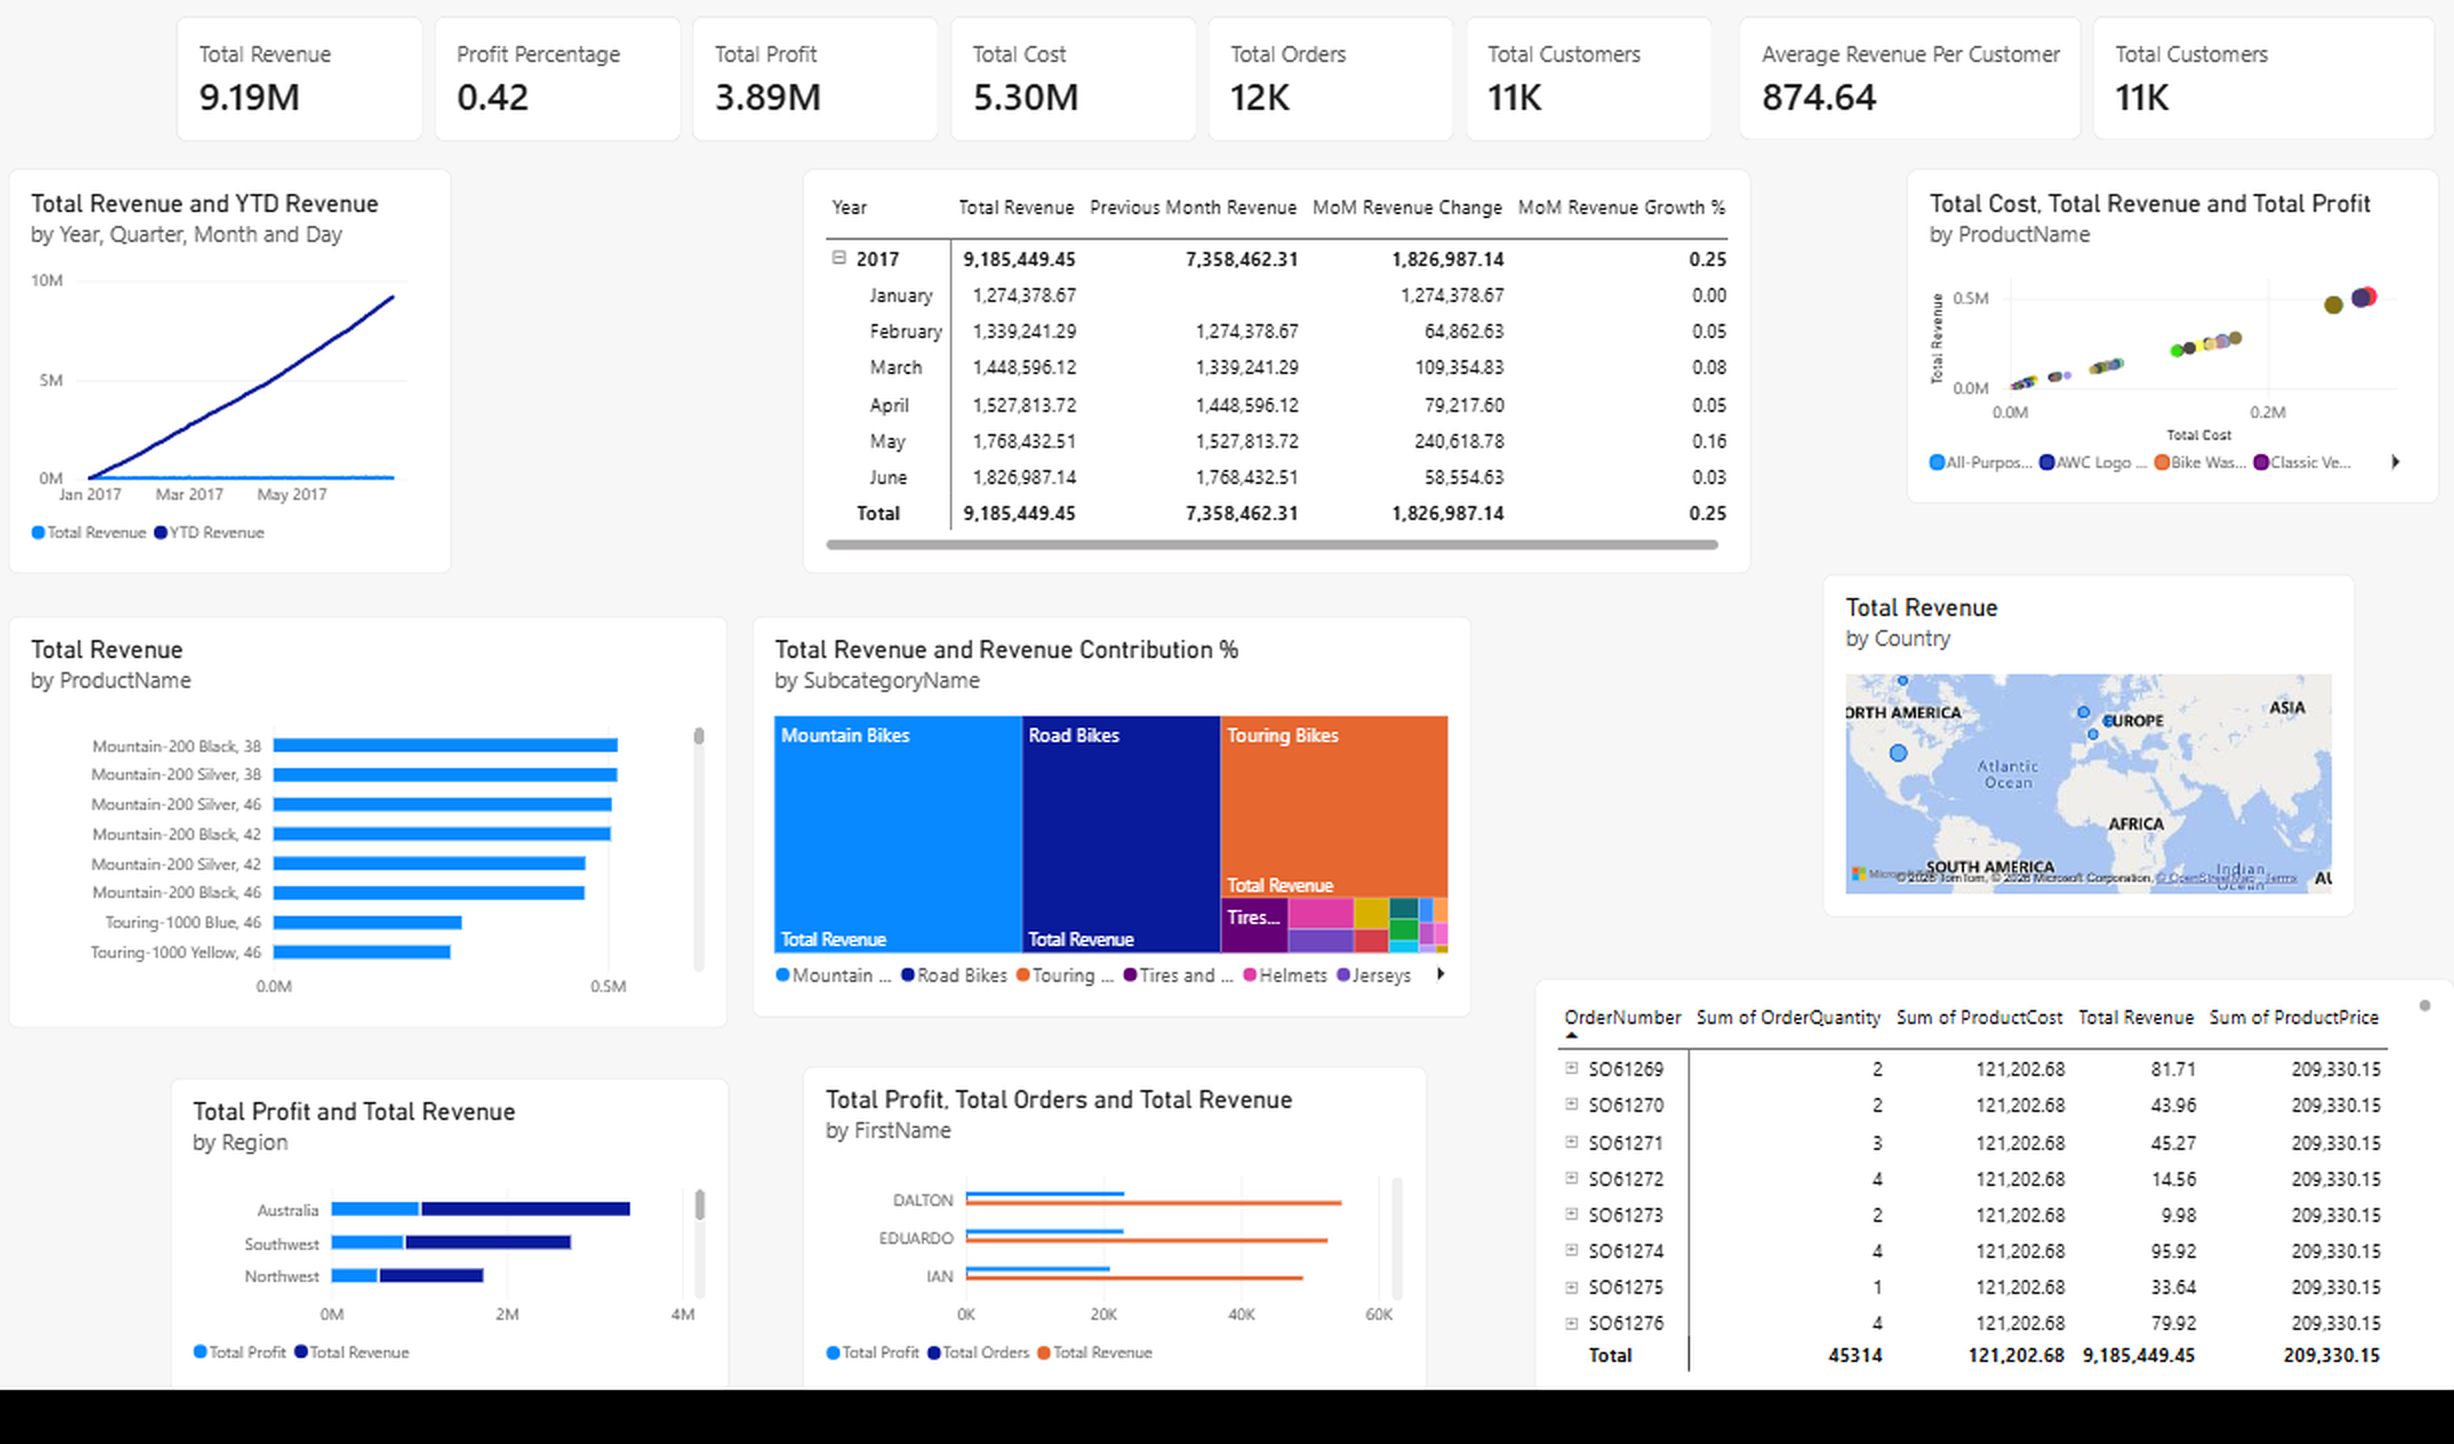

Layout of this report page (visuals, bound fields, positions):
{"tool":"powerbi","page":{"name":"Page 1","canvas":[1920,1080],"ordinal":0},"visuals":[{"type":"cardVisual","fields":{"Data":["AdventureWorks_Sales_2017.Total Revenue","AdventureWorks_Sales_2017.Profit Percentage","AdventureWorks_Sales_2017.Total Profit","AdventureWorks_Sales_2017.Total Cost","AdventureWorks_Sales_2017.Total Orders","AdventureWorks_Sales_2017.Total Customers"]},"box":[155,40,1141.7,93.3],"z":0},{"type":"lineChart","fields":{"Category":["AdventureWorks_Calendar.Date.Variation.Date Hierarchy.Year","AdventureWorks_Calendar.Date.Variation.Date Hierarchy.Quarter","AdventureWorks_Calendar.Date.Variation.Date Hierarchy.Month","AdventureWorks_Calendar.Date.Variation.Date Hierarchy.Day"],"Y":["AdventureWorks_Sales_2017.Total Revenue","AdventureWorks_Sales_2017.YTD Revenue"]},"box":[30,153.3,328.3,300],"z":1000},{"type":"pivotTable","fields":{"Rows":["AdventureWorks_Calendar.Date.Variation.Date Hierarchy.Year","AdventureWorks_Calendar.Date.Variation.Date Hierarchy.Month"],"Values":["AdventureWorks_Sales_2017.Total Revenue","AdventureWorks_Sales_2017.Previous Month Revenue","AdventureWorks_Sales_2017.MoM Revenue Change","AdventureWorks_Sales_2017.MoM Revenue Growth %"]},"box":[620,152.5,701.7,300],"z":2000},{"type":"clusteredBarChart","fields":{"Category":["AdventureWorks_Products.ProductName"],"Y":["AdventureWorks_Sales_2017.Total Revenue"]},"box":[30,485,533.3,305],"z":3000},{"type":"treemap","fields":{"Group":["AdventureWorks_Product_Subcateg.SubcategoryName"],"Values":["AdventureWorks_Sales_2017.Total Revenue","AdventureWorks_Sales_2017.Revenue Contribution %"]},"box":[581.7,485,533,297],"z":4000},{"type":"scatterChart","fields":{"Series":["AdventureWorks_Products.ProductName"],"Size":["AdventureWorks_Sales_2017.Total Profit"],"X":["AdventureWorks_Sales_2017.Total Cost"],"Y":["AdventureWorks_Sales_2017.Total Revenue"]},"box":[1437.5,152.5,394,248],"z":4001},{"type":"map","fields":{"Category":["AdventureWorks_Territories.Country","AdventureWorks_Territories.Region"],"Size":["AdventureWorks_Sales_2017.Total Revenue"]},"box":[1375,452.5,394,254],"z":4002},{"type":"barChart","fields":{"Category":["AdventureWorks_Territories.Region"],"Y":["AdventureWorks_Sales_2017.Total Profit","AdventureWorks_Sales_2017.Total Revenue"]},"box":[150,826.7,414,233],"z":4003},{"type":"clusteredBarChart","fields":{"Category":["AdventureWorks_Customers.FirstName","AdventureWorks_Customers.LastName"],"Y":["AdventureWorks_Sales_2017.Total Profit","AdventureWorks_Sales_2017.Total Orders","AdventureWorks_Sales_2017.Total Revenue"]},"box":[620,816.7,461.7,243.2],"z":4004},{"type":"pivotTable","fields":{"Rows":["AdventureWorks_Sales_2017.OrderNumber","AdventureWorks_Products.ProductName"],"Values":["Sum(AdventureWorks_Sales_2017.OrderQuantity)","Sum(AdventureWorks_Products.ProductCost)","AdventureWorks_Sales_2017.Total Revenue","Sum(AdventureWorks_Products.ProductPrice)"]},"box":[1162.5,752.5,681,308],"z":4005},{"type":"cardVisual","fields":{"Data":["AdventureWorks_Sales_2017.Average Revenue Per Customer","AdventureWorks_Sales_2017.Total Customers"]},"box":[1312.5,40,517.5,92.5],"z":4006}]}

Visuals, with their boxes on the page's 1920x1080 design canvas (x1, y1, x2, y2). These are canvas units, not pixel positions in the 2454x1444 screenshot, which may show the page scaled, cropped or inside an application window:
cardVisual - AdventureWorks_Sales_2017.Total Revenue x AdventureWorks_Sales_2017.Profit Percentage: (155, 40, 1297, 133)
lineChart - AdventureWorks_Calendar.Date.Variation.Date Hierarchy.Year x AdventureWorks_Calendar.Date.Variation.Date Hierarchy.Quarter: (30, 153, 358, 453)
pivotTable - AdventureWorks_Calendar.Date.Variation.Date Hierarchy.Year x AdventureWorks_Calendar.Date.Variation.Date Hierarchy.Month: (620, 152, 1322, 452)
clusteredBarChart - AdventureWorks_Products.ProductName x AdventureWorks_Sales_2017.Total Revenue: (30, 485, 563, 790)
treemap - AdventureWorks_Product_Subcateg.SubcategoryName x AdventureWorks_Sales_2017.Total Revenue: (582, 485, 1115, 782)
scatterChart - AdventureWorks_Products.ProductName x AdventureWorks_Sales_2017.Total Profit: (1438, 152, 1832, 400)
map - AdventureWorks_Territories.Country x AdventureWorks_Territories.Region: (1375, 452, 1769, 706)
barChart - AdventureWorks_Territories.Region x AdventureWorks_Sales_2017.Total Profit: (150, 827, 564, 1060)
clusteredBarChart - AdventureWorks_Customers.FirstName x AdventureWorks_Customers.LastName: (620, 817, 1082, 1060)
pivotTable - AdventureWorks_Sales_2017.OrderNumber x AdventureWorks_Products.ProductName: (1162, 752, 1844, 1060)
cardVisual - AdventureWorks_Sales_2017.Average Revenue Per Customer x AdventureWorks_Sales_2017.Total Customers: (1312, 40, 1830, 132)
